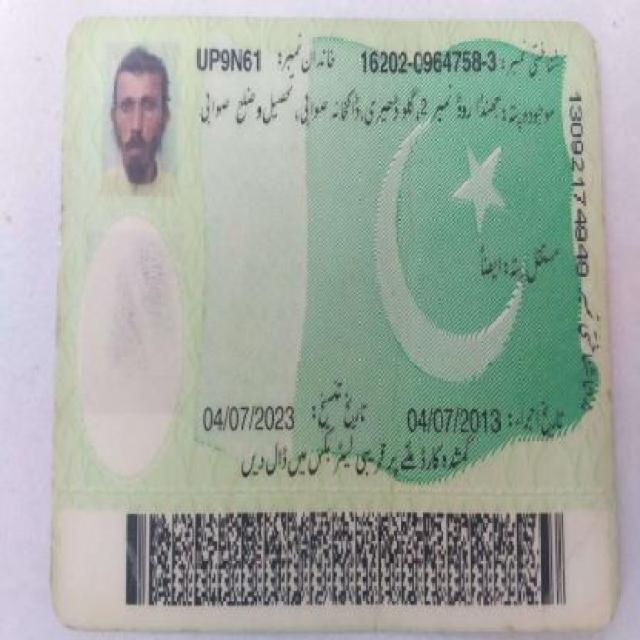Back: (48, 17, 610, 605)
